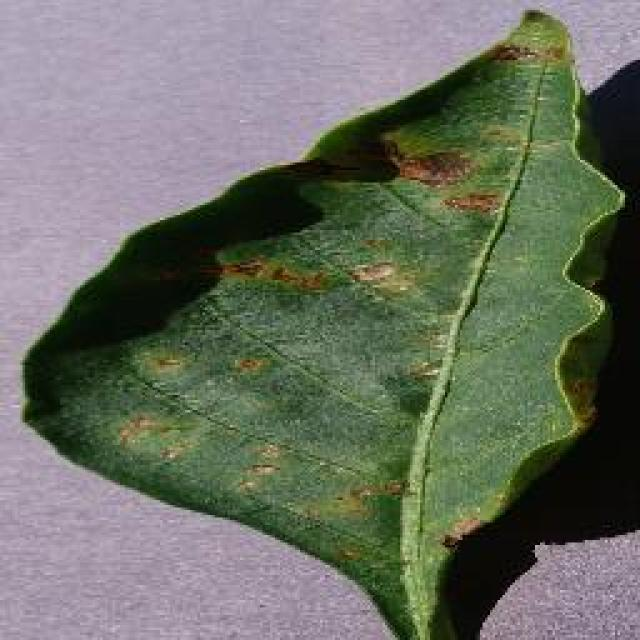Chilli_Bacterial_Spot: (15, 5, 633, 637), (108, 130, 510, 535), (375, 132, 505, 222), (207, 248, 415, 302), (550, 303, 618, 435), (285, 472, 410, 530), (212, 252, 332, 298), (488, 5, 572, 70), (110, 408, 200, 468), (390, 142, 478, 190), (110, 408, 170, 450), (437, 185, 505, 220), (435, 513, 485, 555), (345, 255, 397, 290), (475, 118, 525, 150), (488, 38, 538, 68), (215, 252, 265, 282), (142, 348, 188, 378), (402, 355, 442, 385), (230, 350, 268, 378)
